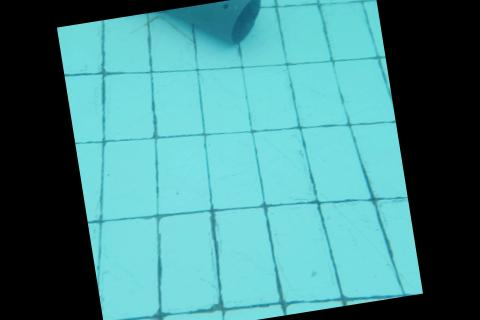kebocoran: (222, 1, 229, 8)
